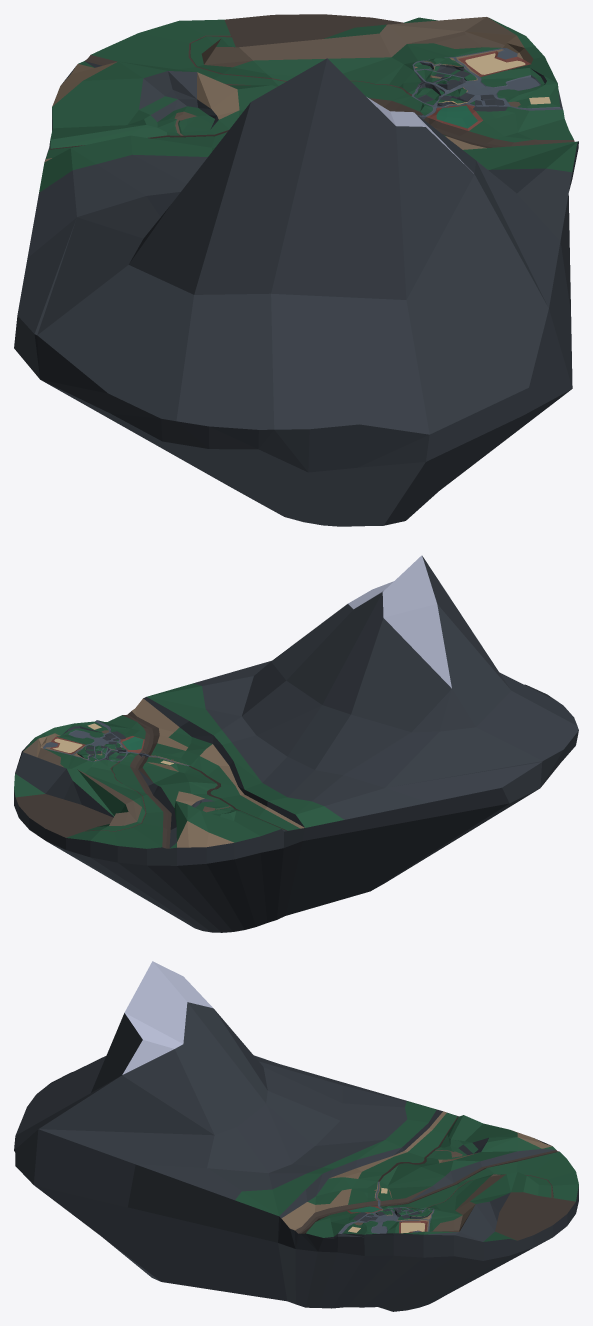
File: island1.fbx
3 renders of one model, top to bottom at view 1: azimuth 30°, elevation 25°; view 2: azimuth 150°, elevation 25°; view 3: azimuth 270°, elevation 25°, orthographic. The views are drawn at different scales.
Visible parts, largest first — view 1: island; view 2: island; view 3: island.
Part boxes in pixels (x1,y1,x2,y2): island: (14,14,578,526); island: (14,555,578,932); island: (14,961,578,1311).
Size of the model in its own units: 850 by 584 by 1019.
